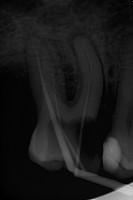Dental Caries: (67, 32, 103, 77), (62, 63, 78, 103)
